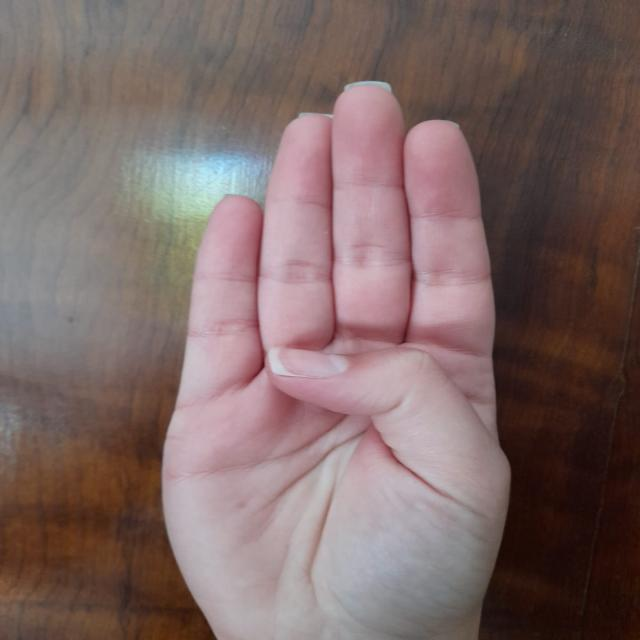B: (106, 66, 538, 640)
